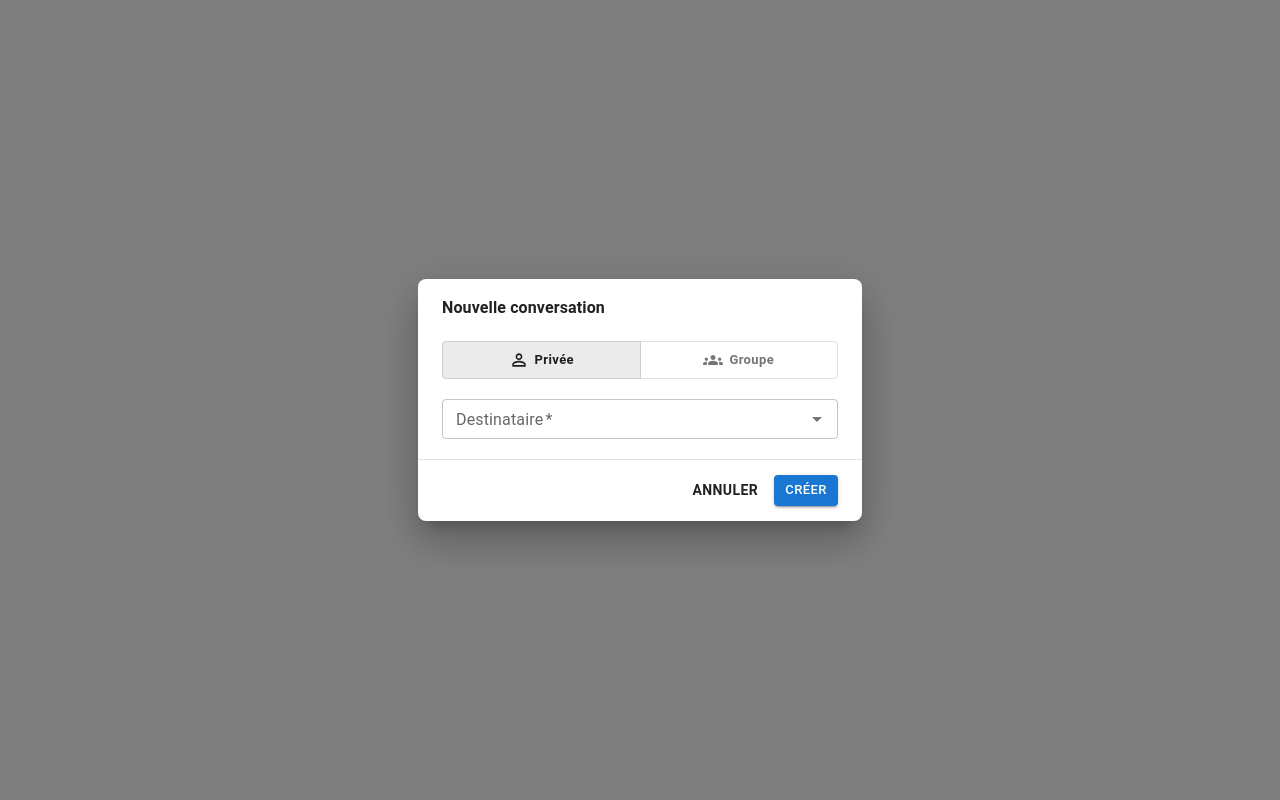
Test case: NewConversationDialog › bascule en « groupe » (nom + membres) puis revient en « privée »
This screenshot has width=1280, height=800.
Click the button "Groupe" at (739, 360), box [640, 341, 838, 380]
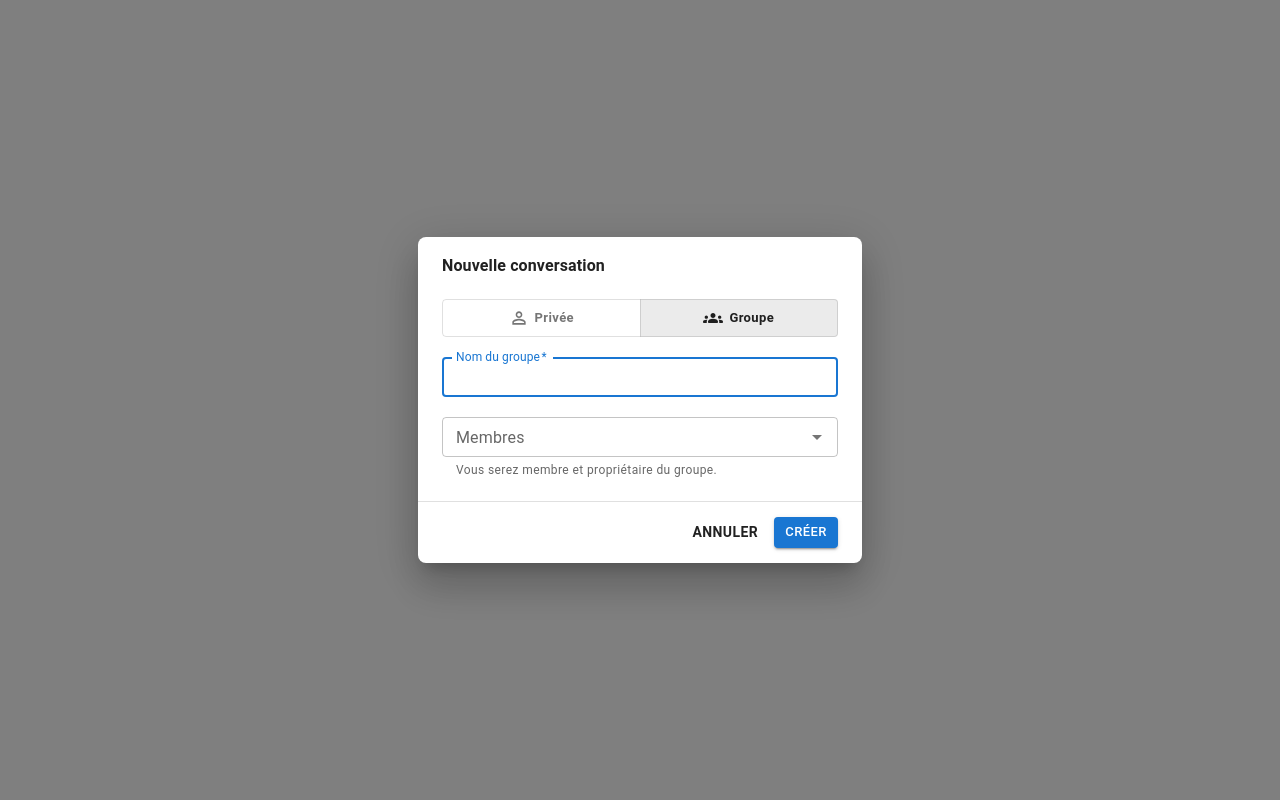
Now the field labelled "Nom du groupe *" is shown, box [442, 358, 838, 398]
Now the dropdown labelled "Membres" is shown, box [448, 424, 799, 452]
Now the label labelled "Destinataire" is gone
# Re-cliquer le type déjà actif ne change rien (exclusive → null ignoré).
Click the button "Groupe" at (739, 318), box [640, 299, 838, 338]
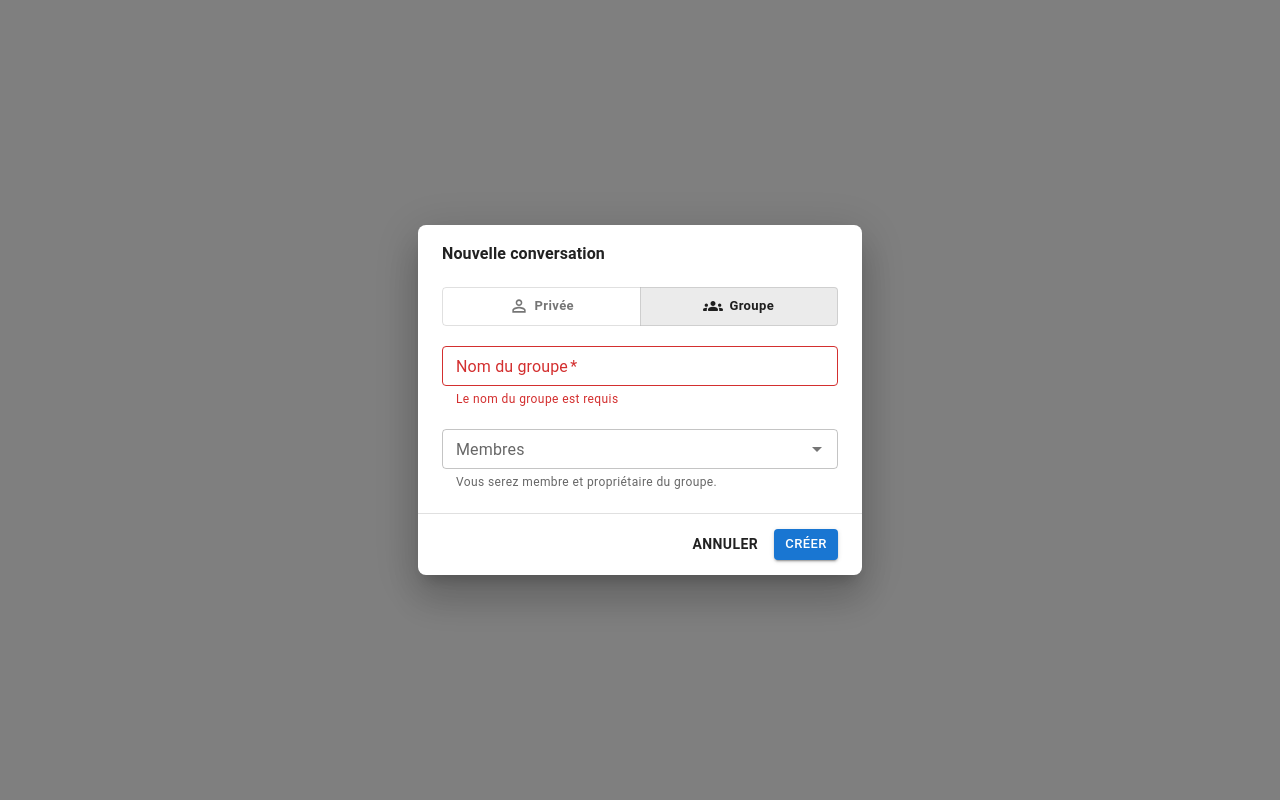
Now the field labelled "Nom du groupe *" is shown, box [442, 346, 838, 386]
Click the button "Privée" at (541, 306), box [442, 287, 640, 326]
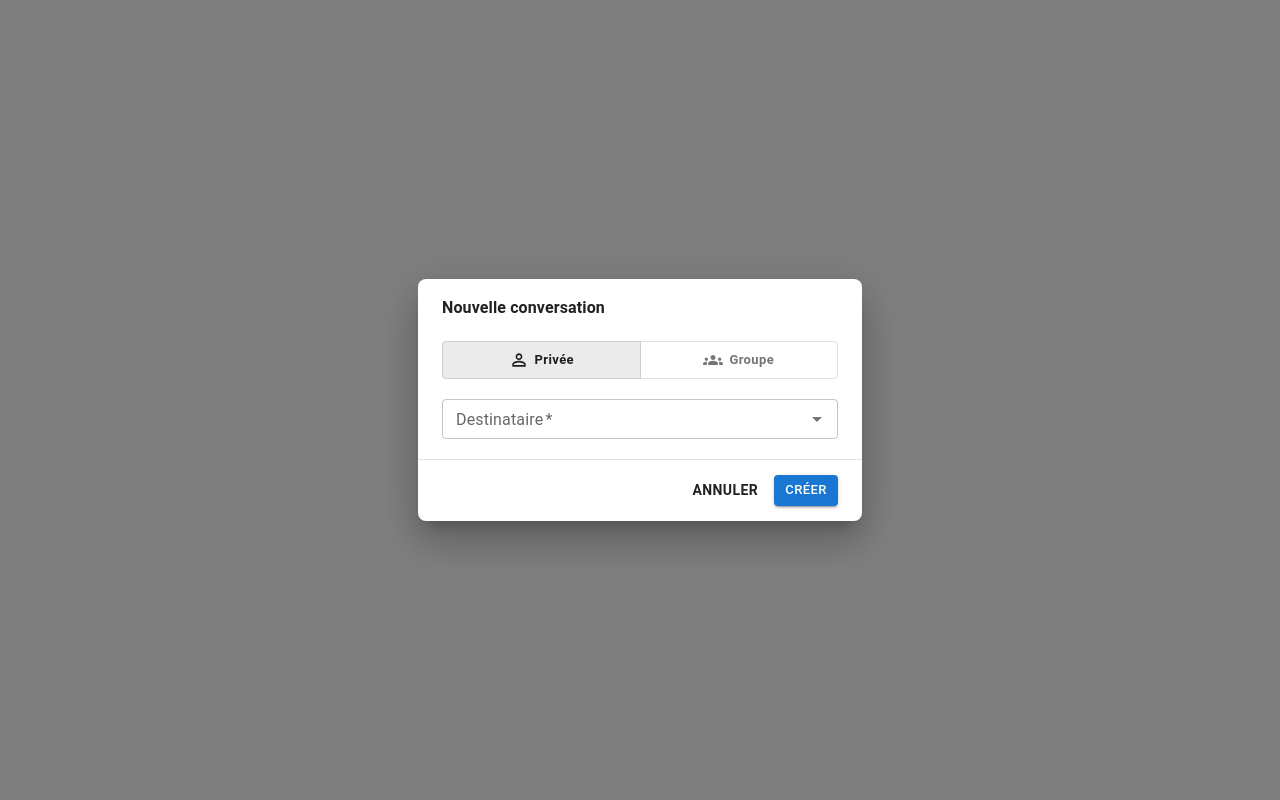
Now the dropdown labelled "Destinataire" is shown, box [448, 405, 799, 433]
Now the label labelled "Nom du groupe" is gone
